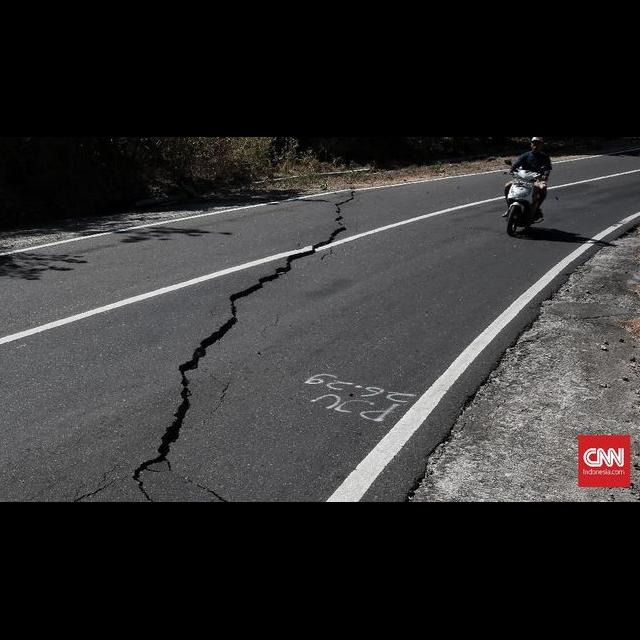retak_memanjang: (133, 286, 244, 502), (244, 188, 358, 305), (54, 454, 134, 502)
